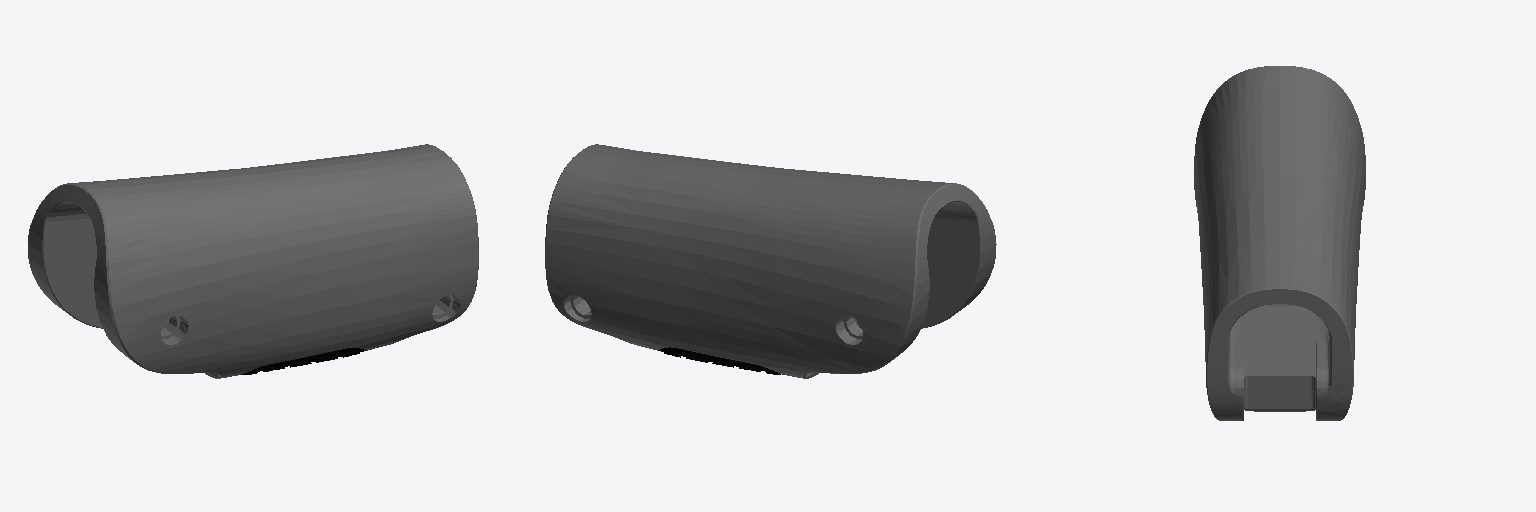
The model's file is L_middle_proximal_link.obj.
3 views of the same model, side by side, from view 1: azimuth 30°, elevation 25°; view 2: azimuth 150°, elevation 25°; view 3: azimuth 270°, elevation 25° (orthographic).
Parts seen in each view (by area): view 1: L_middle_proximal_link; view 2: L_middle_proximal_link; view 3: L_middle_proximal_link.
Boxes of the visible parts, box(x1,y1,x2,y2) form: L_middle_proximal_link: box(28, 144, 478, 378); L_middle_proximal_link: box(545, 144, 996, 378); L_middle_proximal_link: box(1194, 66, 1365, 420).
Size of the model in its own units: 0.0425 by 0.0233 by 0.0169.